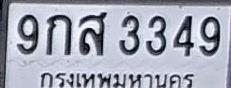3: (118, 14, 139, 55), (146, 15, 166, 55)
4: (174, 15, 194, 56)
9: (17, 14, 38, 54), (200, 16, 220, 56)
A01: (45, 14, 71, 55)
A40: (78, 11, 107, 55)
BKK: (38, 70, 195, 88)
